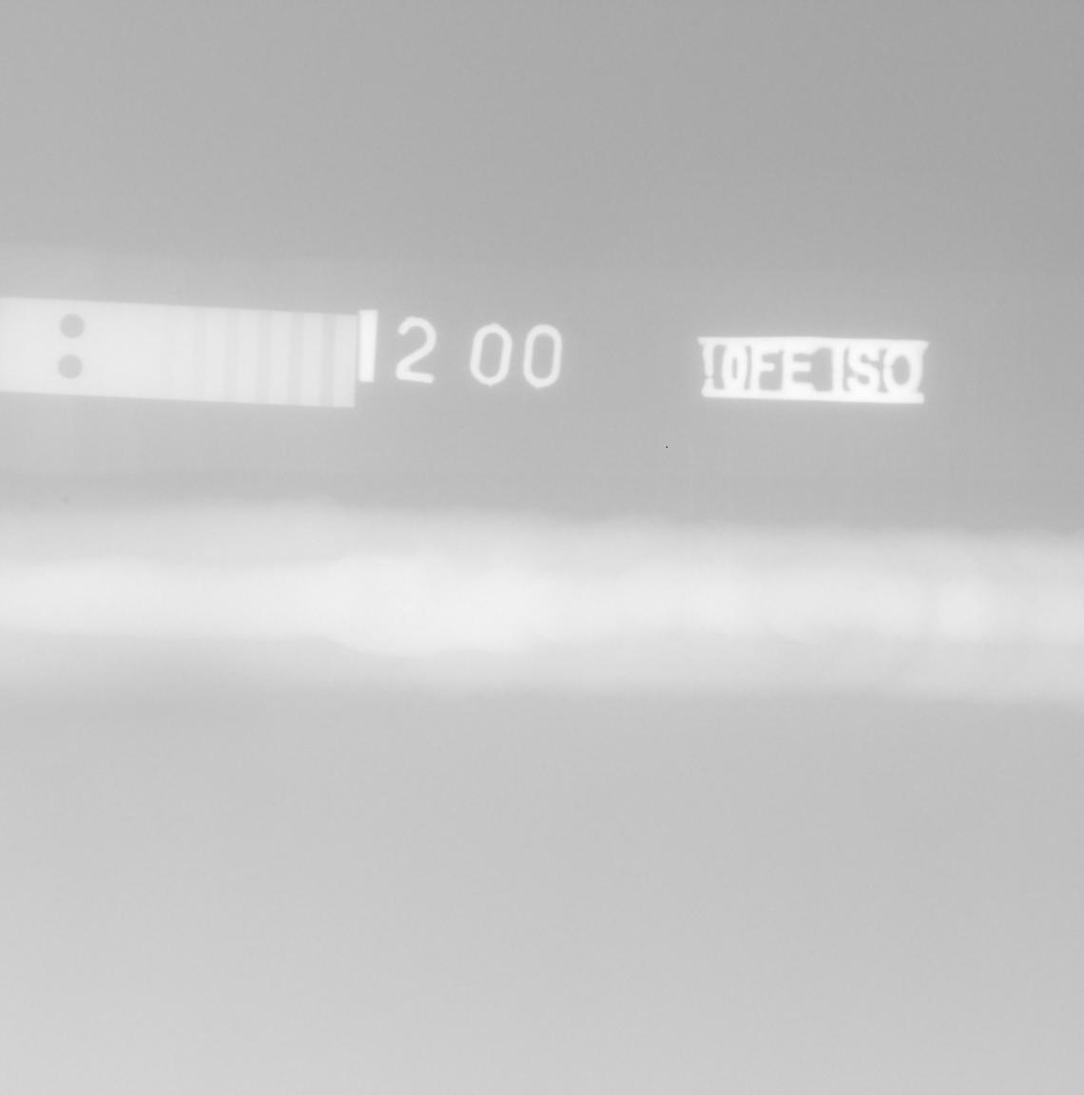Pore/Porosity: (62, 496, 70, 503), (29, 504, 38, 510), (179, 495, 185, 501), (858, 586, 864, 591), (348, 627, 353, 632), (341, 620, 346, 623)
